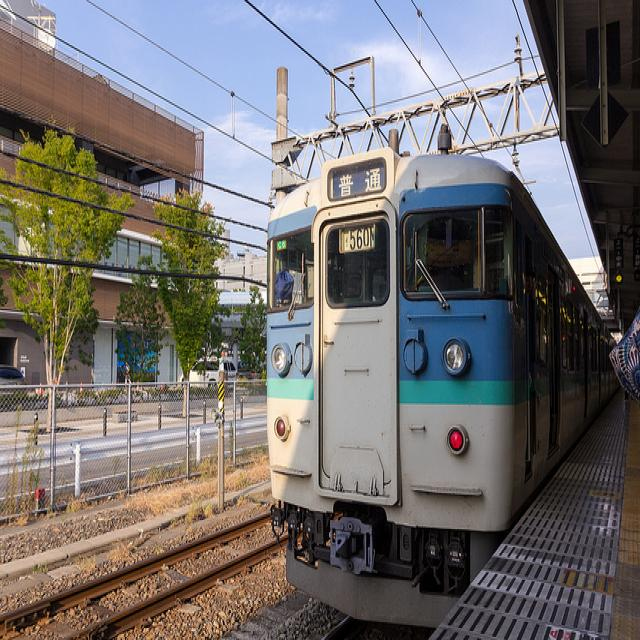Vehicle: (190, 356, 238, 398), (0, 364, 29, 386)
